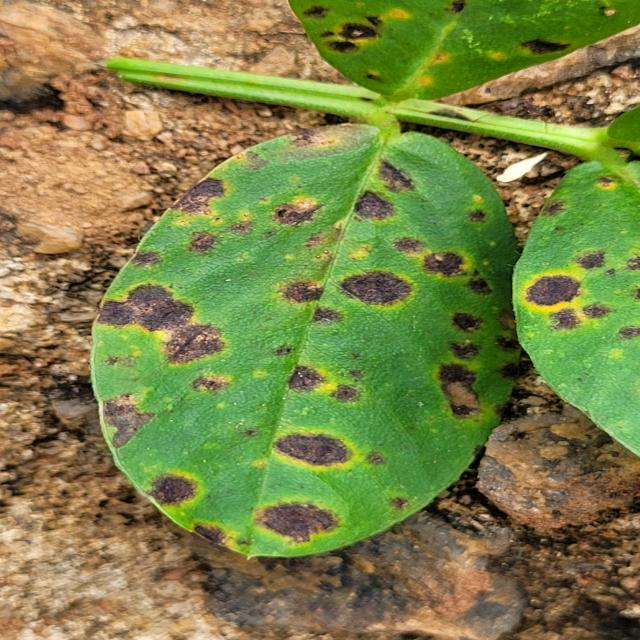Ground nut_tikka leaf spot: (85, 121, 526, 560)
